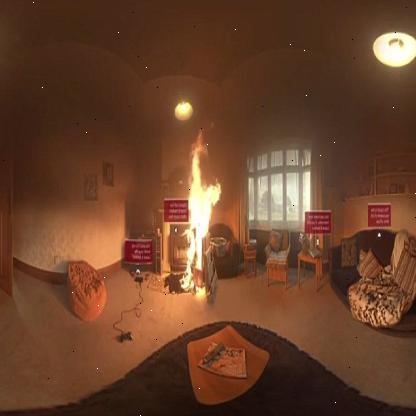fire: (180, 161, 228, 305)
smoke: (0, 7, 414, 219)
